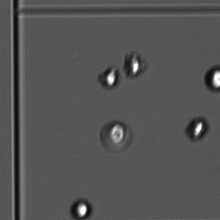Dead Cell: (97, 117, 135, 153)
Living Cell: (121, 50, 147, 82), (96, 63, 121, 92), (184, 113, 209, 142), (201, 62, 220, 94), (68, 197, 94, 220)
